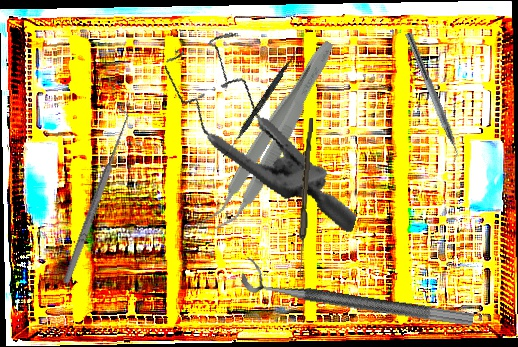Chopper: (395, 31, 467, 168)
Fixation Ring: (239, 255, 478, 329)
Hook Surgical: (54, 106, 135, 286)
Spatula Surgical: (222, 47, 300, 160)
Speculum: (135, 18, 395, 234)
Surgical Spoon: (296, 117, 314, 281)
Tissue Forceps: (200, 31, 343, 240)
